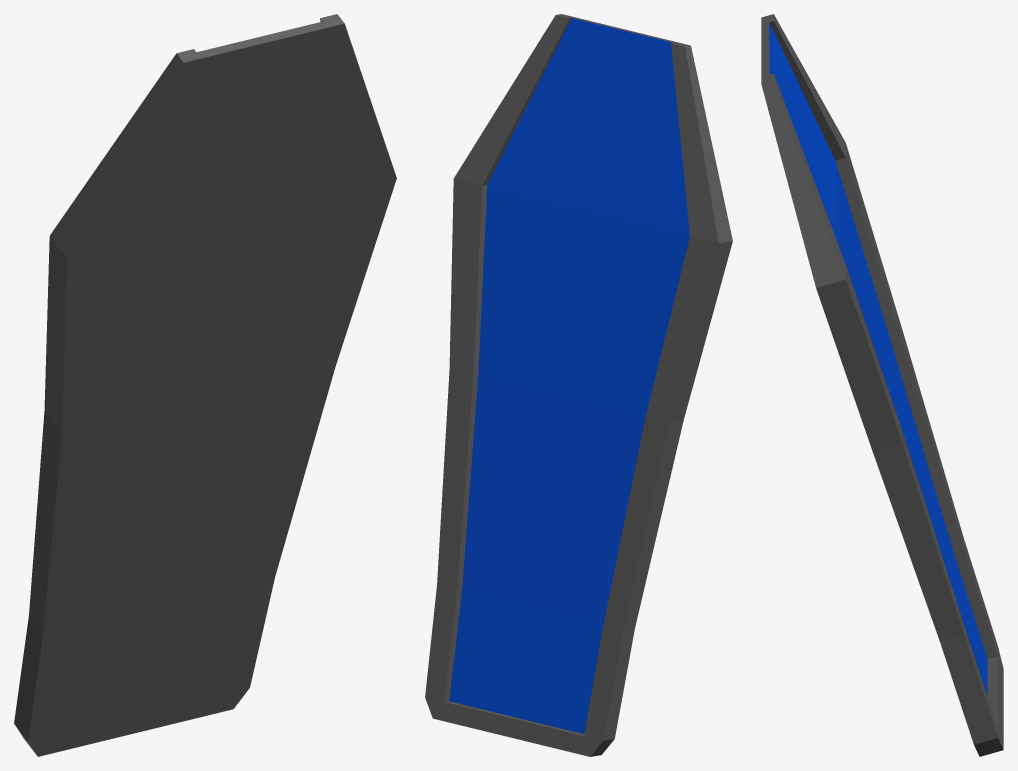
File: robe_additional_2.fbx
3 renders of one model, left to right at view 1: azimuth 30°, elevation 25°; view 2: azimuth 150°, elevation 25°; view 3: azimuth 270°, elevation 25°, orthographic. The views are drawn at different scales.
Visible parts, largest first — view 1: Cube.004; view 2: Cube.004; view 3: Cube.004.
Part boxes in pixels (x1,y1,x2,y2): Cube.004: (14,14,396,756); Cube.004: (425,14,732,756); Cube.004: (761,14,1003,756).
Bounding box in the file's own units: 46.3 × 106 × 34.72.
